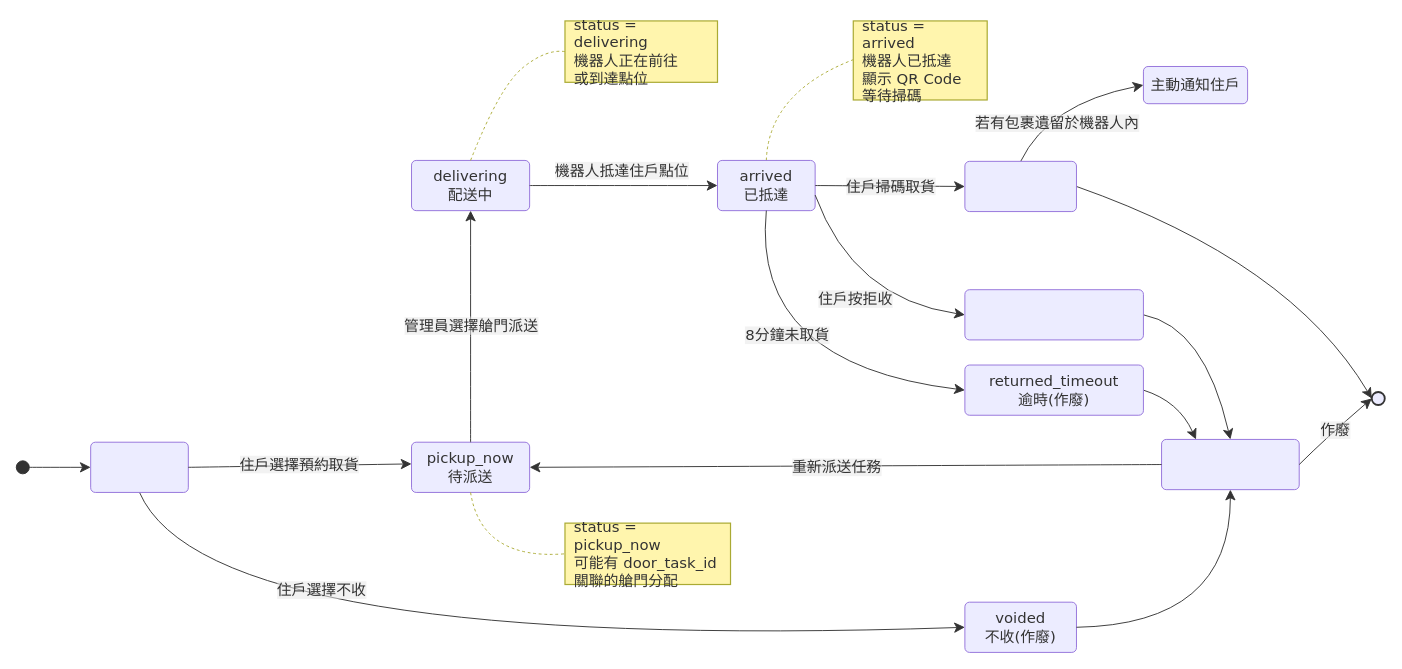
The diagram is 1402 pixels wide and 669 high, and some of its shapes have lost their labels. The centre of each missing label's shape, as x and y in pixels:
completed 已完成: pixel 1020 186
pending 待處理: pixel 139 466
rejected_at_door 拒收(作廢): pixel 1053 314
管理員聯絡住戶後 決定是否重新派送: pixel 1230 464
